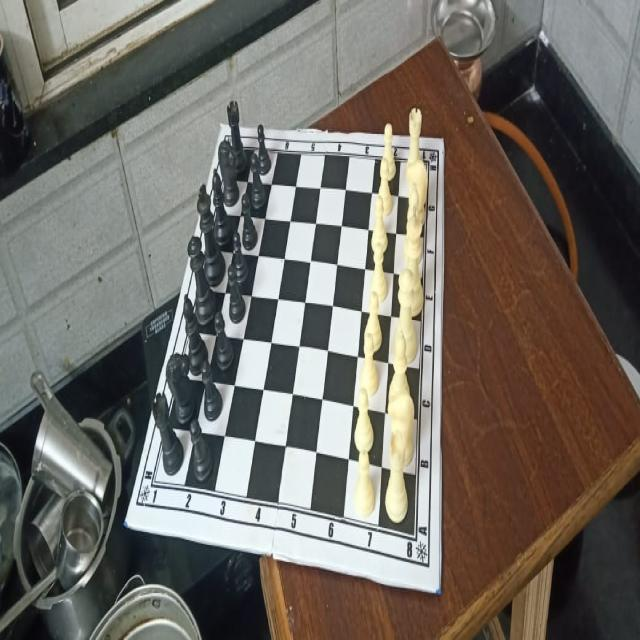corners: (212, 111, 228, 139), (437, 126, 448, 158), (121, 507, 133, 532), (432, 580, 445, 602)
